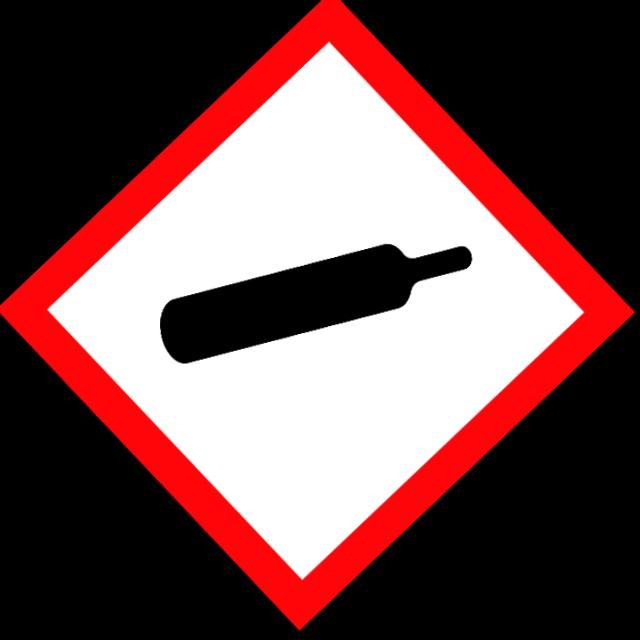gas under pressure: (159, 234, 474, 377)
